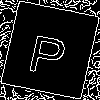P: (25, 24, 71, 78)
